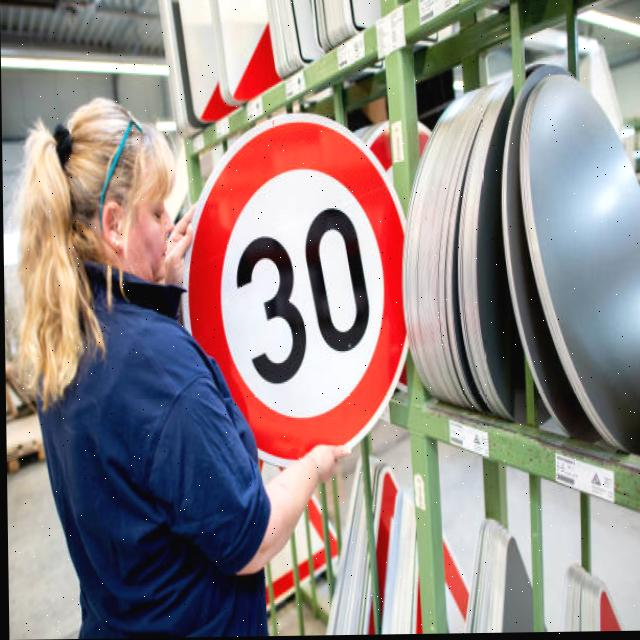Speed limit 30: (182, 111, 412, 471)
